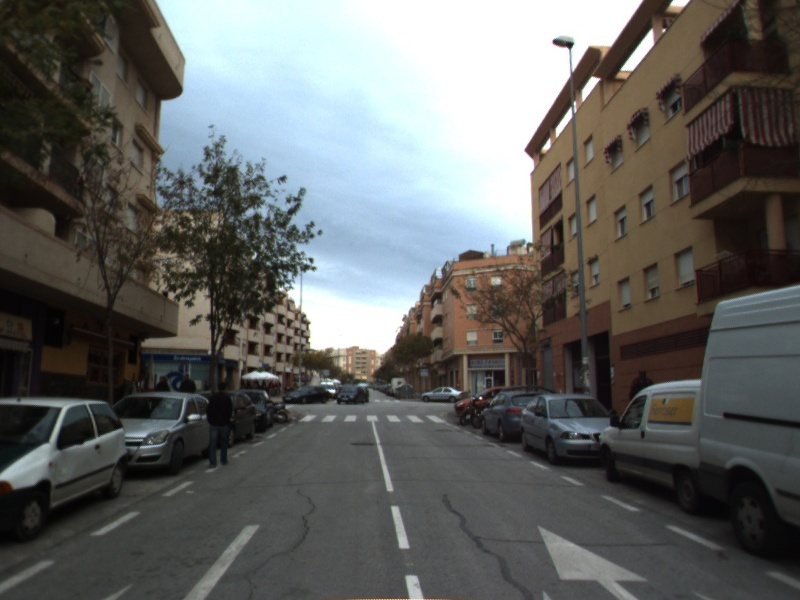STRAIGHT: (534, 523, 653, 600)
